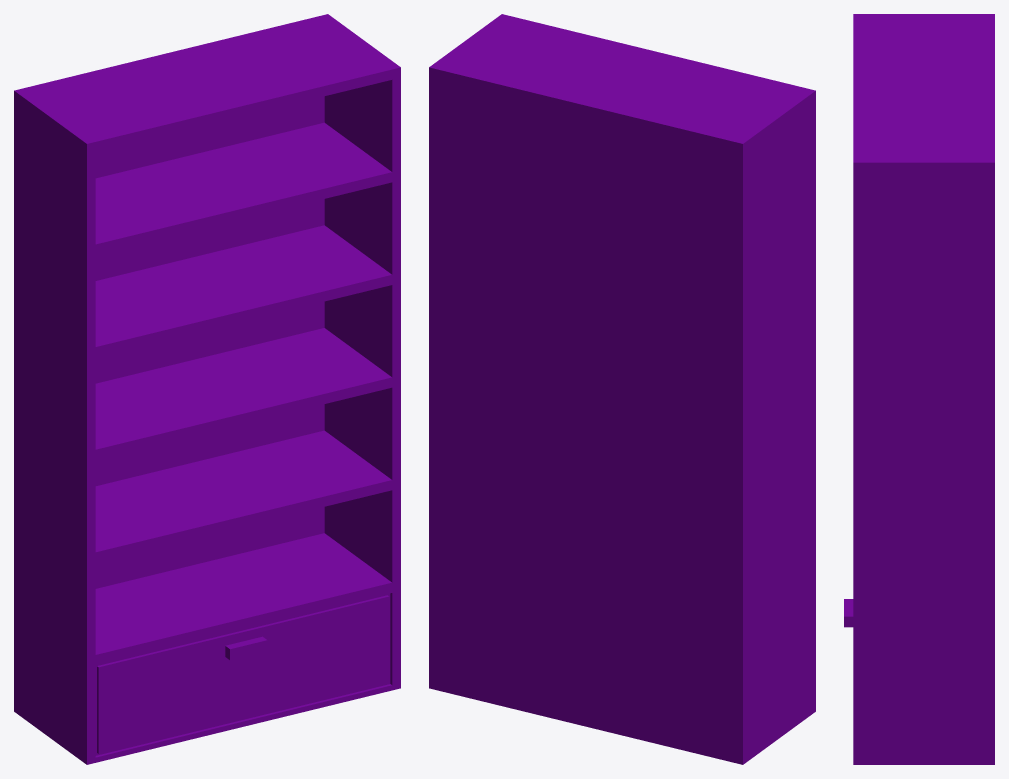
The model's file is shelf.fbx.
The picture shows the model from 3 angles, left to right: view 1: azimuth 30°, elevation 25°; view 2: azimuth 150°, elevation 25°; view 3: azimuth 270°, elevation 25°; orthographic projection. The views are drawn at different scales.
Visible parts, largest first — view 1: pCube175; view 2: pCube175; view 3: pCube175.
Part boxes in pixels (x1=…): pCube175: x1=14, y1=14, x2=400, y2=764; pCube175: x1=429, y1=14, x2=815, y2=764; pCube175: x1=844, y1=14, x2=994, y2=764.
Size of the model in its own units: 4.09 by 7.73 by 1.75.
